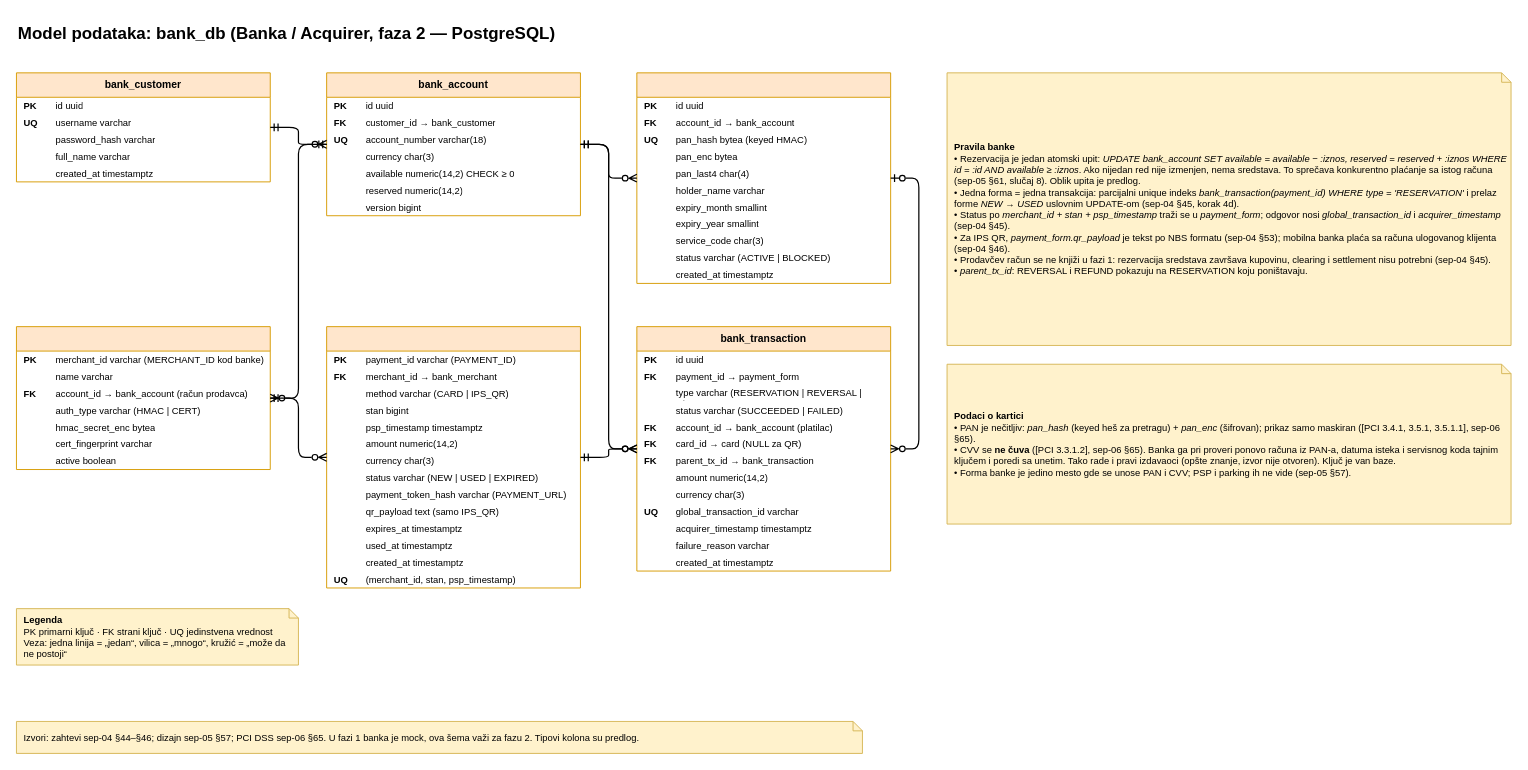
Image size: 1528x770. Some labels were removed from this diagram. Here are the shapes that lost their labels. From the top down, the box of each, then its label:
(636, 72, 891, 283): card
(16, 326, 270, 470): bank_merchant
(326, 326, 580, 588): payment_form
